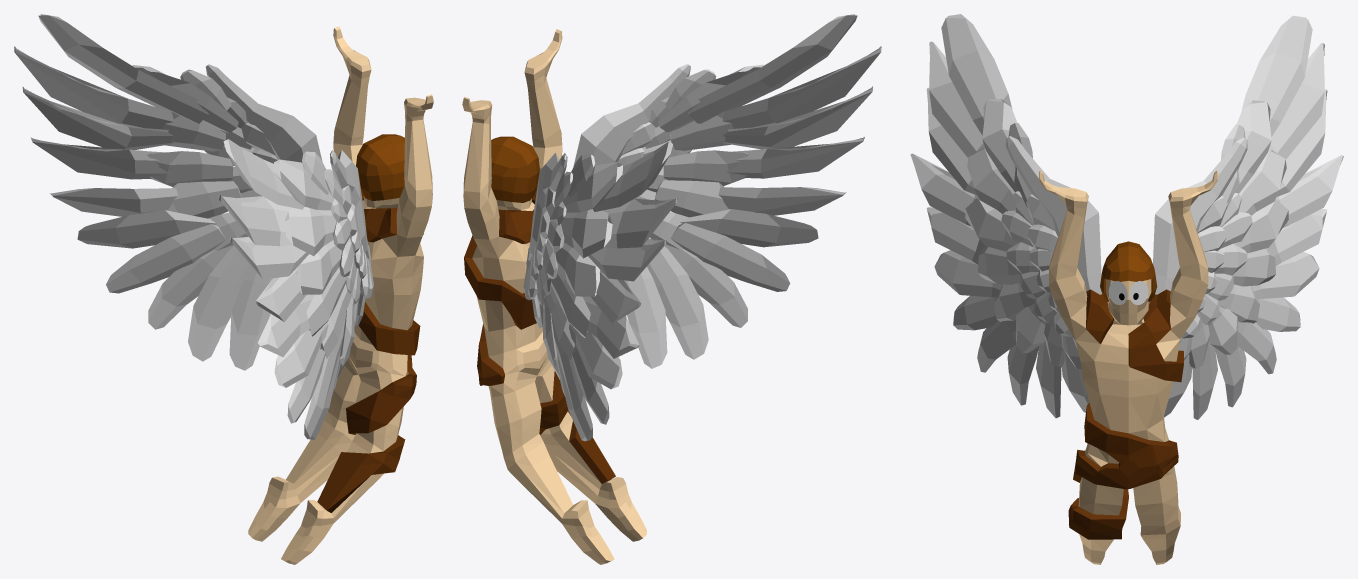
The model's file is Dominio.fbx.
The picture shows the model from 3 angles, left to right: view 1: azimuth 30°, elevation 25°; view 2: azimuth 150°, elevation 25°; view 3: azimuth 270°, elevation 25°; orthographic projection. The views are drawn at different scales.
Parts seen in each view (by area): view 1: Cylinder.003, DOMINIO, Cylinder.084, DOMINIO.001; view 2: Cylinder.084, DOMINIO, Cylinder.003, DOMINIO.001; view 3: Cylinder.084, Cylinder.003, DOMINIO, DOMINIO.001, Circle.003.
Boxes of the visible parts, x1,y1,x2,y2 form: Cylinder.003: [14, 14, 322, 370]; DOMINIO: [248, 26, 433, 564]; Cylinder.084: [218, 139, 373, 439]; DOMINIO.001: [356, 134, 404, 200]; Cylinder.084: [573, 14, 881, 368]; DOMINIO: [462, 29, 646, 564]; Cylinder.003: [523, 142, 677, 441]; DOMINIO.001: [491, 136, 539, 202]; Cylinder.084: [910, 14, 1101, 418]; Cylinder.003: [1153, 15, 1343, 419]; DOMINIO: [1039, 170, 1218, 564]; DOMINIO.001: [1100, 241, 1157, 301]; Circle.003: [1108, 281, 1148, 304].
Size of the model in its own units: 370 by 591 by 478.
